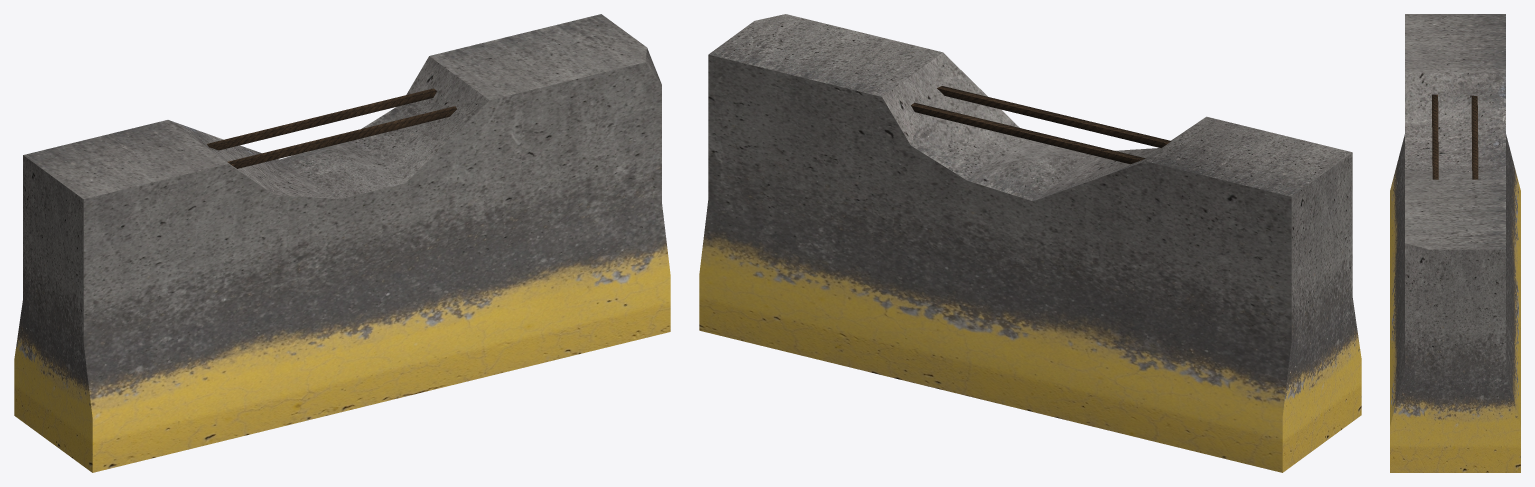
Rendered from bar3.obj.
3 views of the same model, side by side, from view 1: azimuth 30°, elevation 25°; view 2: azimuth 150°, elevation 25°; view 3: azimuth 270°, elevation 25° (orthographic). The views are drawn at different scales.
Visible parts, largest first — view 1: mesh01; view 2: mesh01; view 3: mesh01.
Part boxes in pixels (left/top/right/bottom): mesh01: left=14, top=14, right=670, bottom=472; mesh01: left=699, top=14, right=1361, bottom=472; mesh01: left=1390, top=14, right=1520, bottom=472.
Size of the model in its own units: 2.03 by 0.8948 by 0.4754.
1 material, 1 textured.
